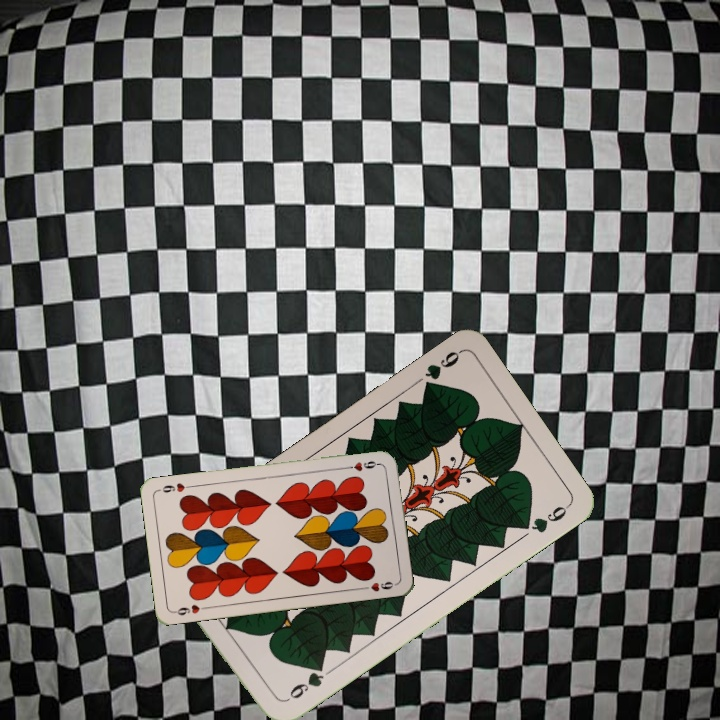G9: (419, 346, 464, 395), (280, 659, 327, 705)
H9: (170, 600, 210, 618), (342, 457, 382, 474)
